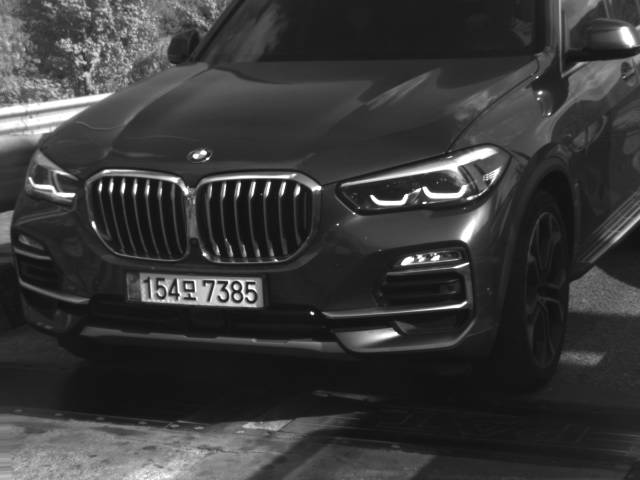car: (10, 1, 640, 398)
plate: (123, 270, 265, 310)
